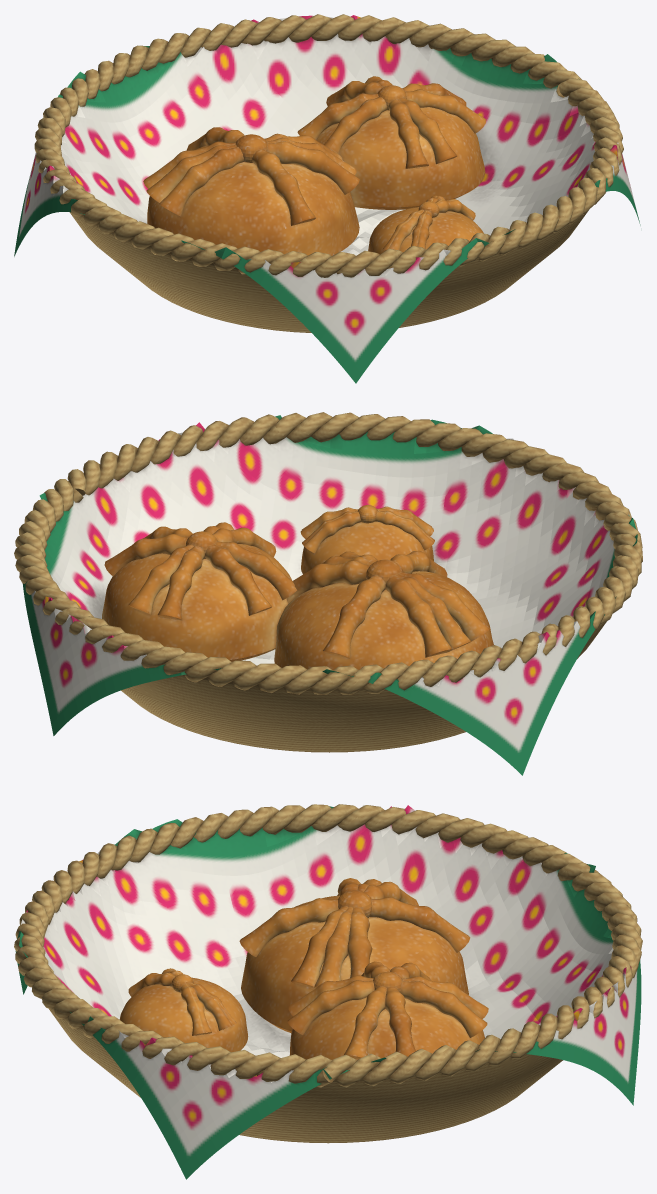
Rendered from w6_ofrenda_bread_basket.glb.
The picture shows the model from 3 angles, top to bottom: view 1: azimuth 30°, elevation 25°; view 2: azimuth 150°, elevation 25°; view 3: azimuth 270°, elevation 25°; orthographic projection. The views are drawn at different scales.
Visible parts, largest first — view 1: w6_ofrenda_bread_basket; view 2: w6_ofrenda_bread_basket; view 3: w6_ofrenda_bread_basket.
Boxes of the visible parts, box(x1,y1,x2,y2) form: w6_ofrenda_bread_basket: box(14, 14, 640, 383); w6_ofrenda_bread_basket: box(14, 412, 642, 775); w6_ofrenda_bread_basket: box(14, 804, 642, 1179).
Size of the model in its own units: 0.4746 by 0.1178 by 0.4752.
Materials: 1 (1 with a texture image).
